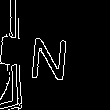N_N: (33, 28, 77, 82)
